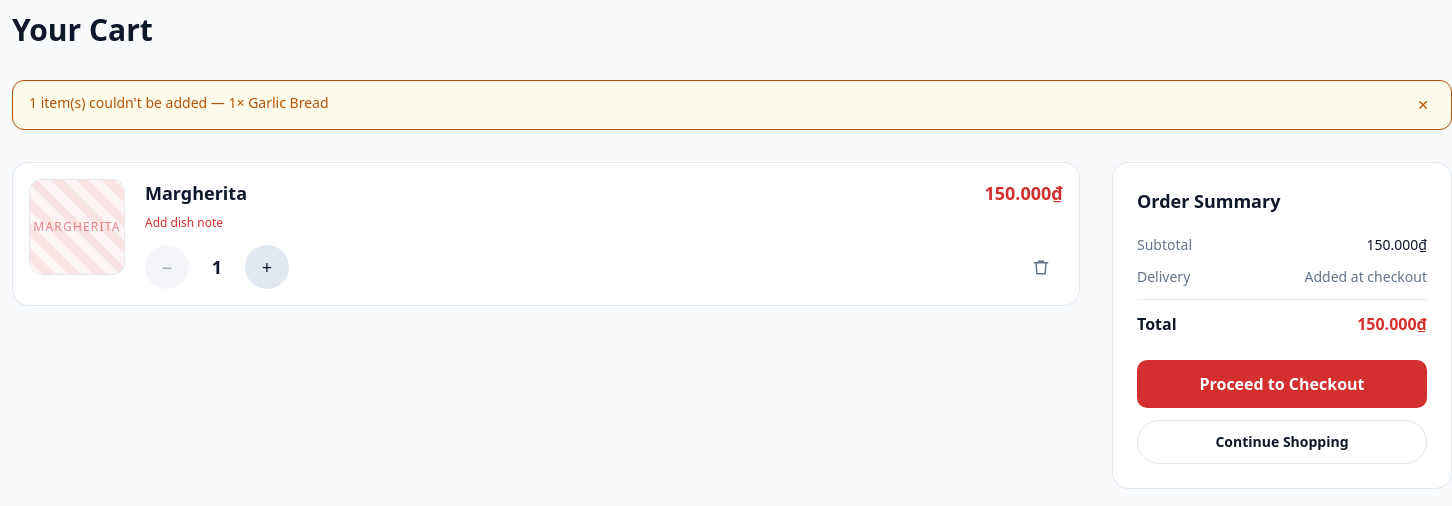
it: CartPage reorder notice › shows the carried notice once, then lets the user dismiss it
Expected: the message with test id "cart-reorder-notice" shows "couldn't be added", x1=29 y1=93 x2=328 y2=112
What coordinates should you click on to do the following:
click the button named "dismiss notice"
I would click on:
 (1423, 105)
Its box is x1=1411 y1=93 x2=1435 y2=117.
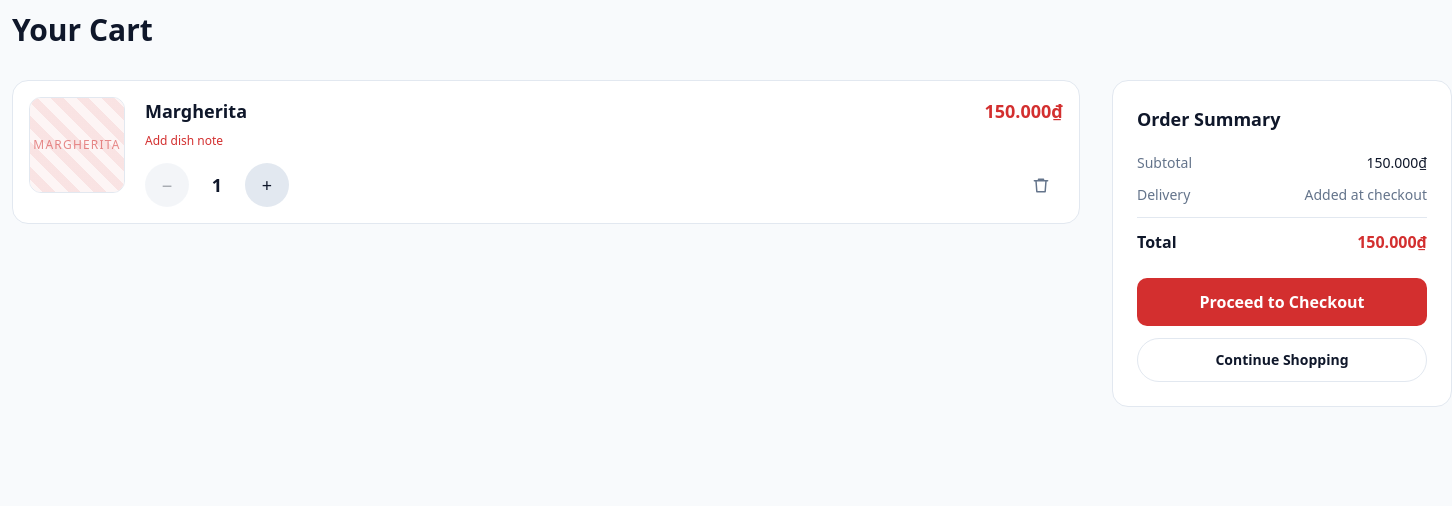
Now the message with test id "cart-reorder-notice" is gone
